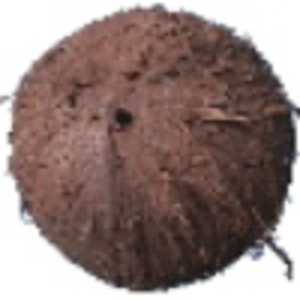coco: (1, 3, 300, 294)
